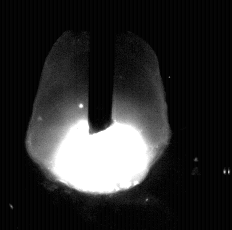arame: (89, 0, 113, 135)
poca: (25, 0, 169, 230)
